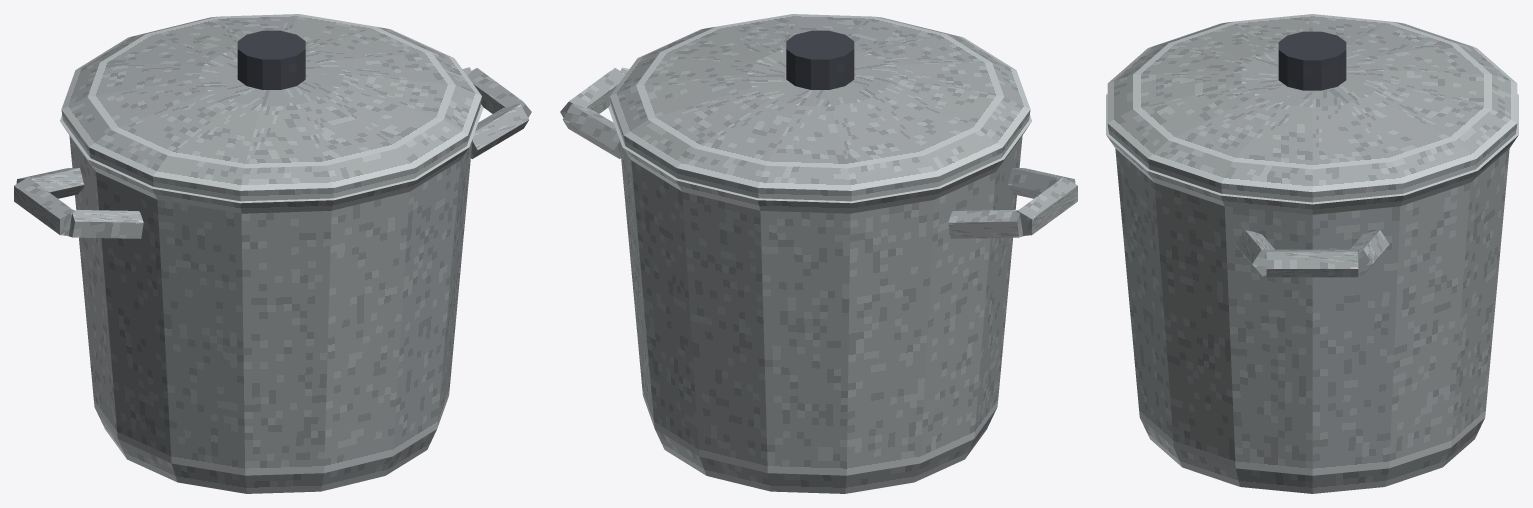
The model's file is pot_canning.glb.
The picture shows the model from 3 angles, left to right: view 1: azimuth 30°, elevation 25°; view 2: azimuth 150°, elevation 25°; view 3: azimuth 270°, elevation 25°; orthographic projection.
Parts seen in each view (by area): view 1: block_open vessel, block_domed lid, block_handle knob, block_side handle 2 (×2), block_side handle 1 (×2), block_side handle 0; view 2: block_open vessel, block_domed lid, block_handle knob, block_side handle 0 (×2), block_side handle 1 (×2), block_side handle 2; view 3: block_open vessel, block_domed lid, block_handle knob, block_side handle 1, block_side handle 0, block_side handle 2.
Boxes of the visible parts, left/top/right/bottom form: block_open vessel: left=60, top=104, right=483, bottom=493; block_domed lid: left=61, top=14, right=481, bottom=201; block_handle knob: left=237, top=30, right=305, bottom=89; block_side handle 2 (×2): left=68, top=104, right=529, bottom=238; block_side handle 1 (×2): left=14, top=68, right=531, bottom=235; block_side handle 0: left=16, top=168, right=84, bottom=198; block_open vessel: left=608, top=104, right=1031, bottom=493; block_domed lid: left=610, top=14, right=1030, bottom=201; block_handle knob: left=786, top=30, right=854, bottom=89; block_side handle 0 (×2): left=562, top=104, right=1023, bottom=238; block_side handle 1 (×2): left=560, top=68, right=1077, bottom=235; block_side handle 2: left=1007, top=168, right=1075, bottom=198; block_open vessel: left=1106, top=94, right=1518, bottom=493; block_domed lid: left=1107, top=14, right=1517, bottom=202; block_handle knob: left=1278, top=31, right=1346, bottom=90; block_side handle 1: left=1266, top=249, right=1358, bottom=277; block_side handle 0: left=1350, top=230, right=1389, bottom=276; block_side handle 2: left=1235, top=230, right=1274, bottom=276.
Bounding box in the file's own units: 0.45 × 0.3452 × 0.3422.
Materials: 2 (2 with a texture image).
